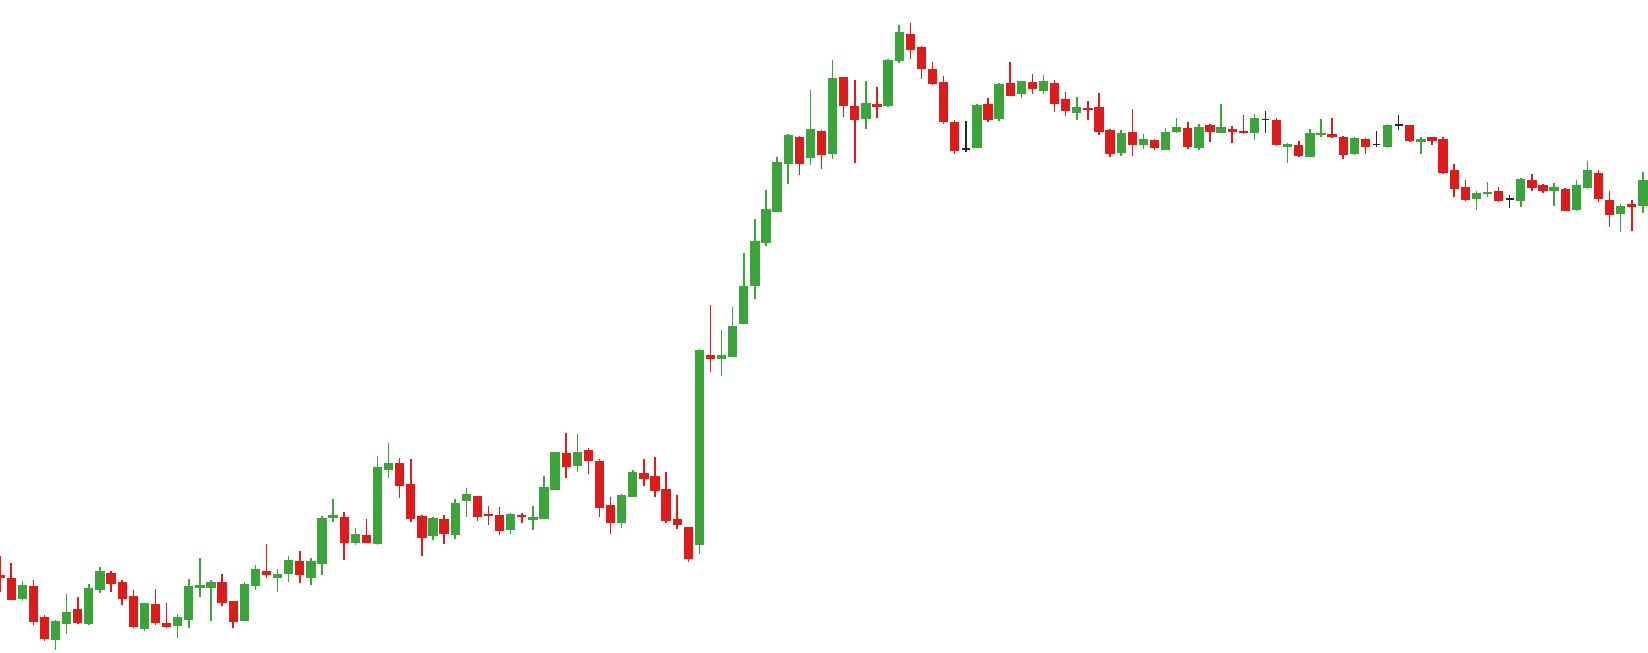buy: (607, 485, 710, 564)
